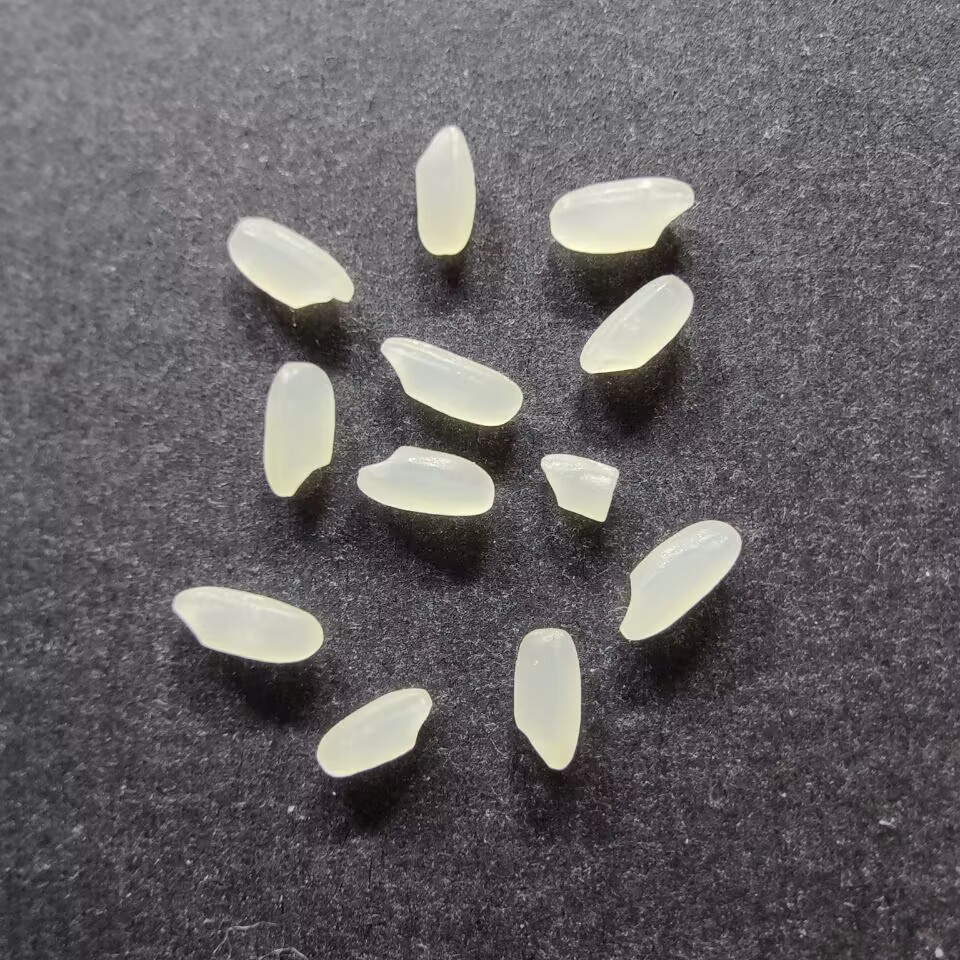broken: (539, 451, 621, 524)
rice: (617, 517, 743, 642), (379, 334, 522, 427), (170, 584, 325, 664), (225, 214, 355, 309), (577, 273, 695, 375), (548, 175, 695, 255), (314, 684, 433, 778), (260, 360, 336, 499), (354, 444, 495, 517), (512, 627, 582, 770), (413, 124, 477, 257)
